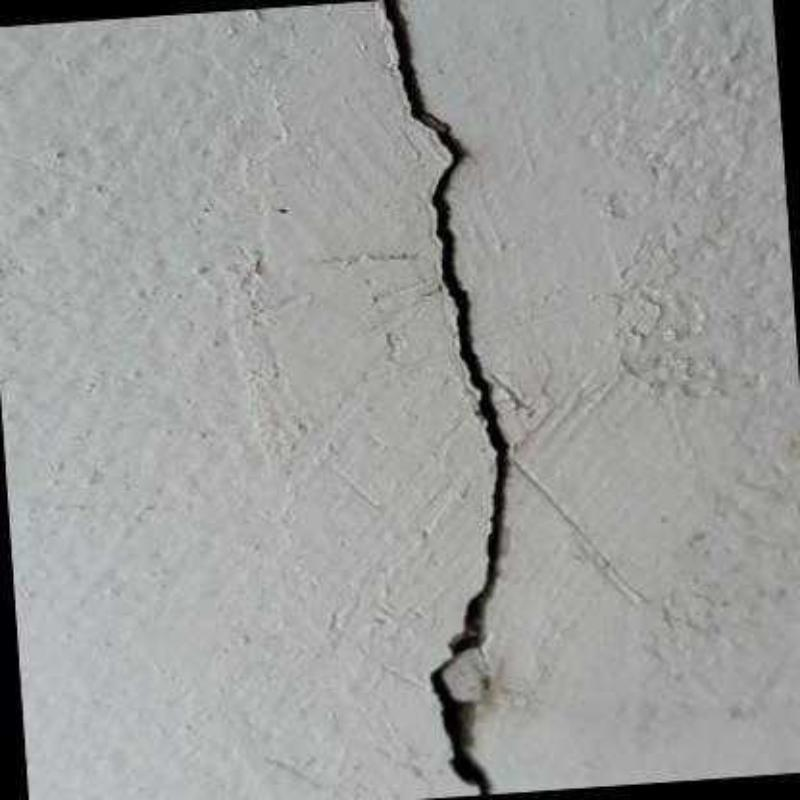pothole: (382, 0, 508, 796)
